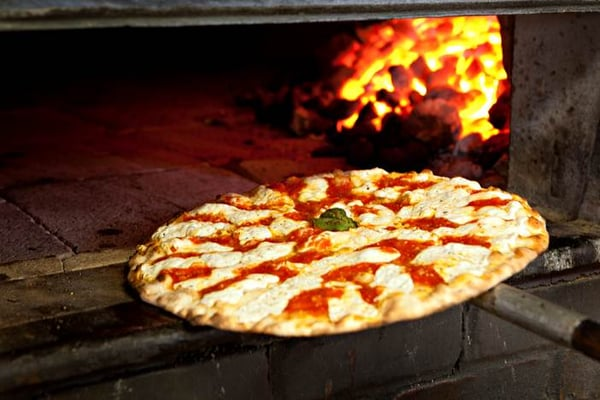sandwich: (125, 167, 546, 336)
